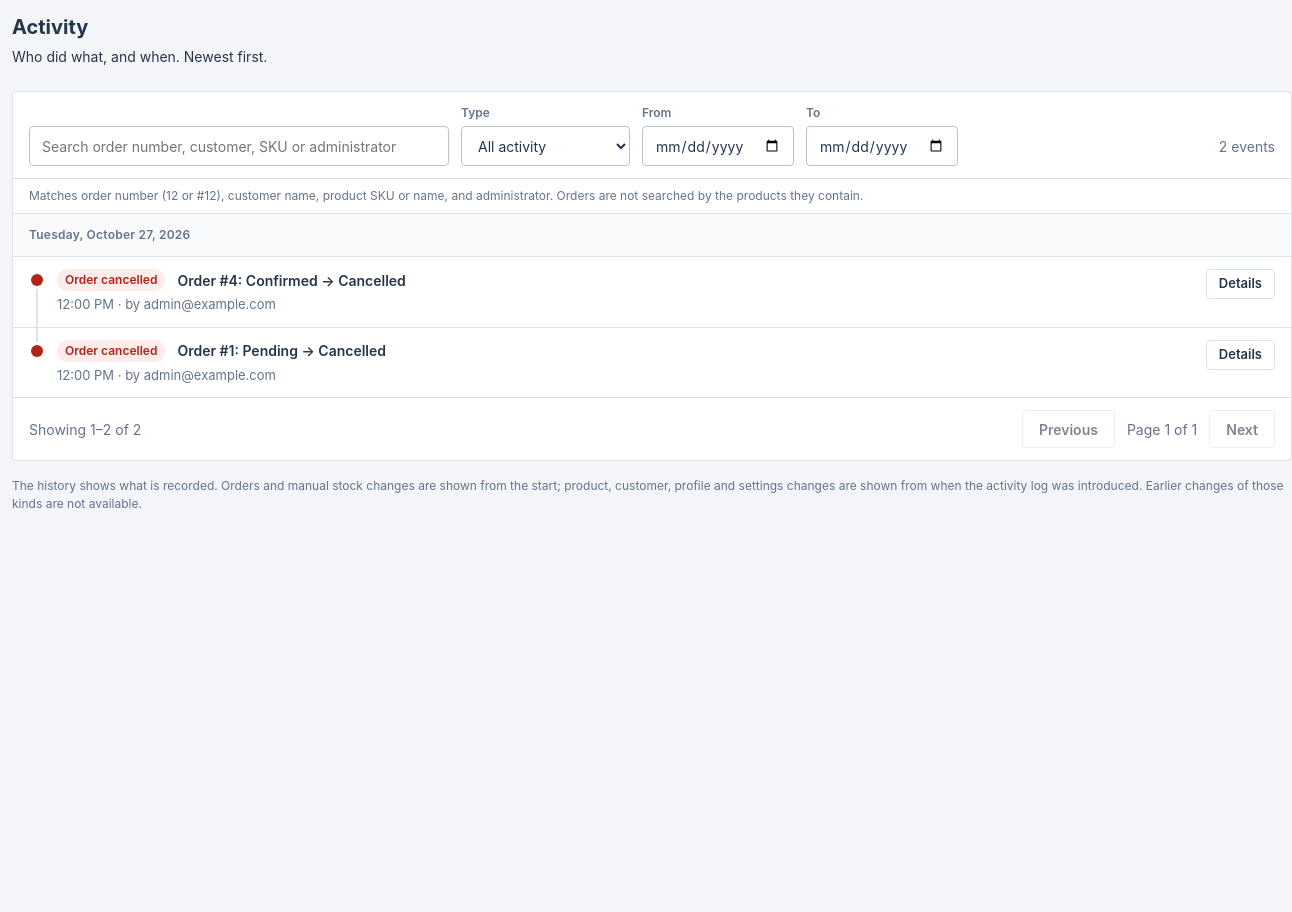
event details › a cancellation shows the stock put back; a cancellation that moved no stock says so
What coordinates should you click on to do the following:
click the button with aria-label "Show details"
I would click on:
 (1240, 284)
Its box is 1206,269 -> 1275,299.
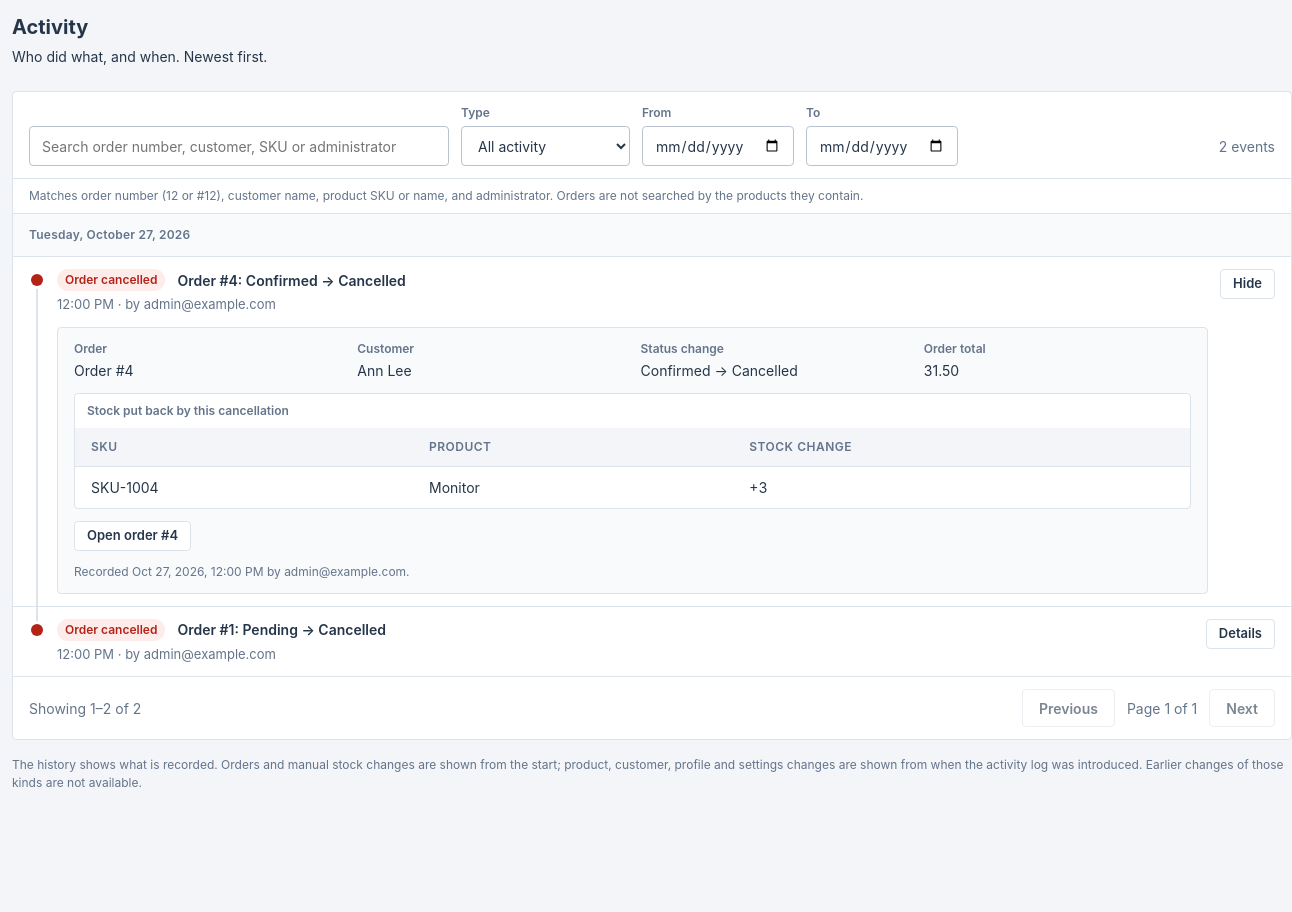
Expected: the text "Stock put back by this cancellation" is shown, 87,402 -> 289,418
Expected: the cell "+3" is shown, 733,466 -> 1190,508
What coordinates should you click on to do the following:
click the button with aria-label "Show details"
I would click on:
 (1240, 634)
Its box is 1206,618 -> 1275,648.
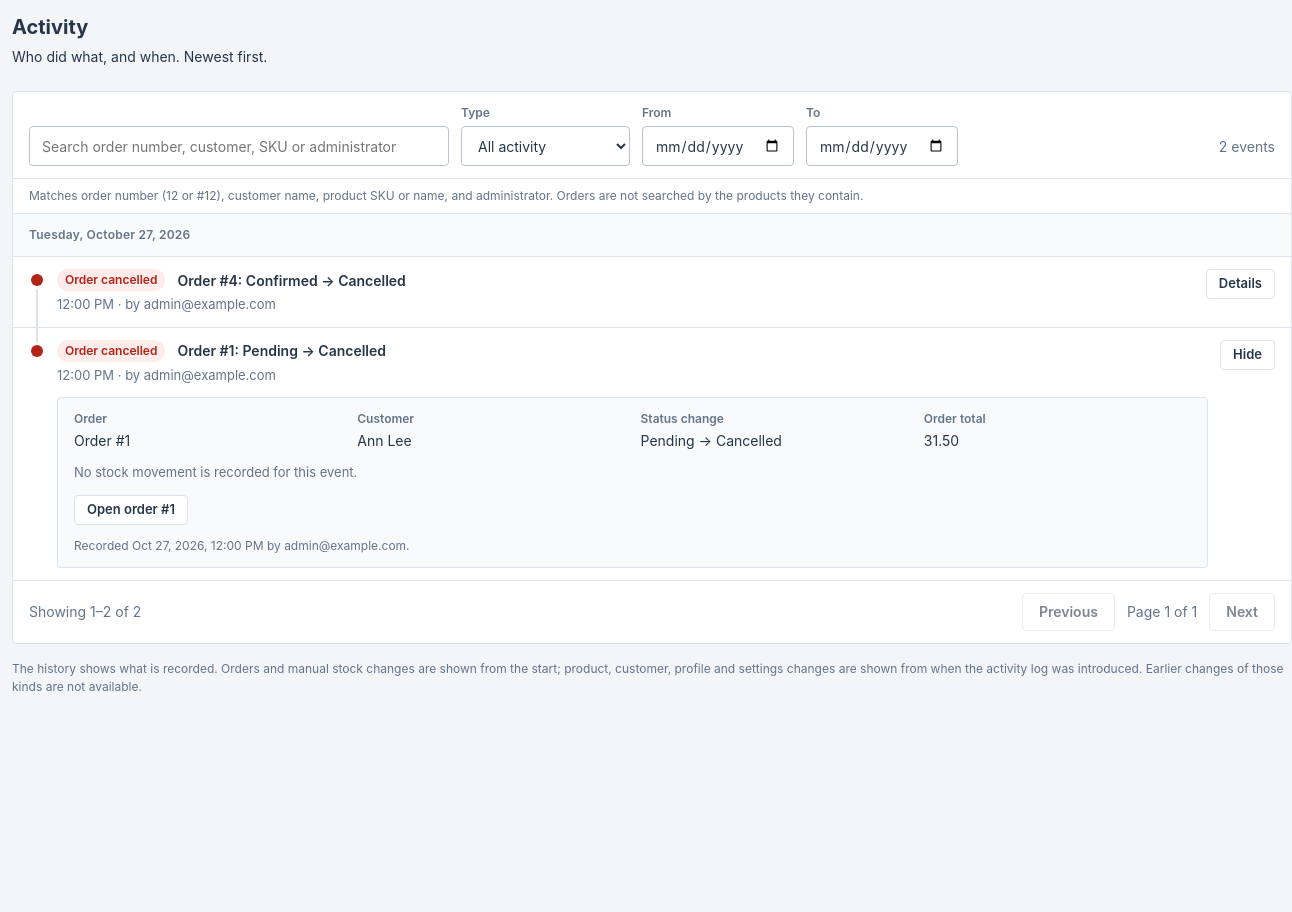
Expected: the text "No stock movement is recorded for this event." is shown, 74,464 -> 357,480
